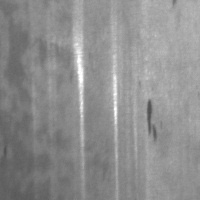inclusion: (143, 97, 158, 143)
scratches: (70, 9, 88, 195), (106, 49, 121, 200)
